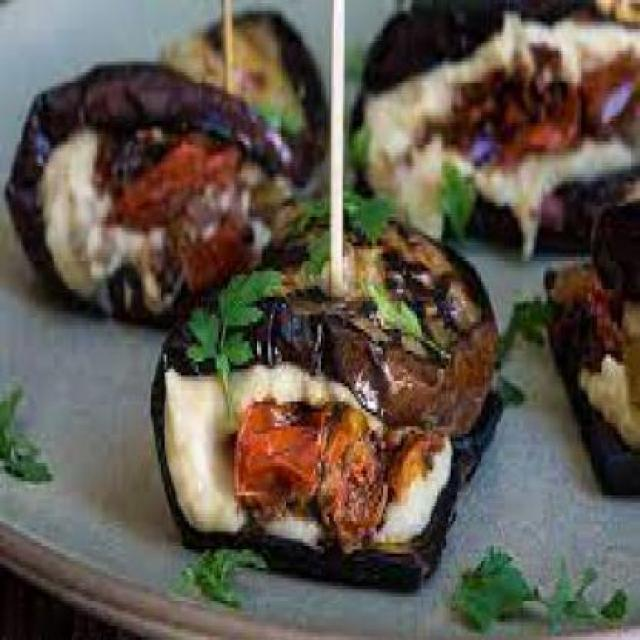hummus: (158, 351, 467, 557), (358, 14, 638, 228), (34, 126, 251, 297), (570, 296, 638, 441)
